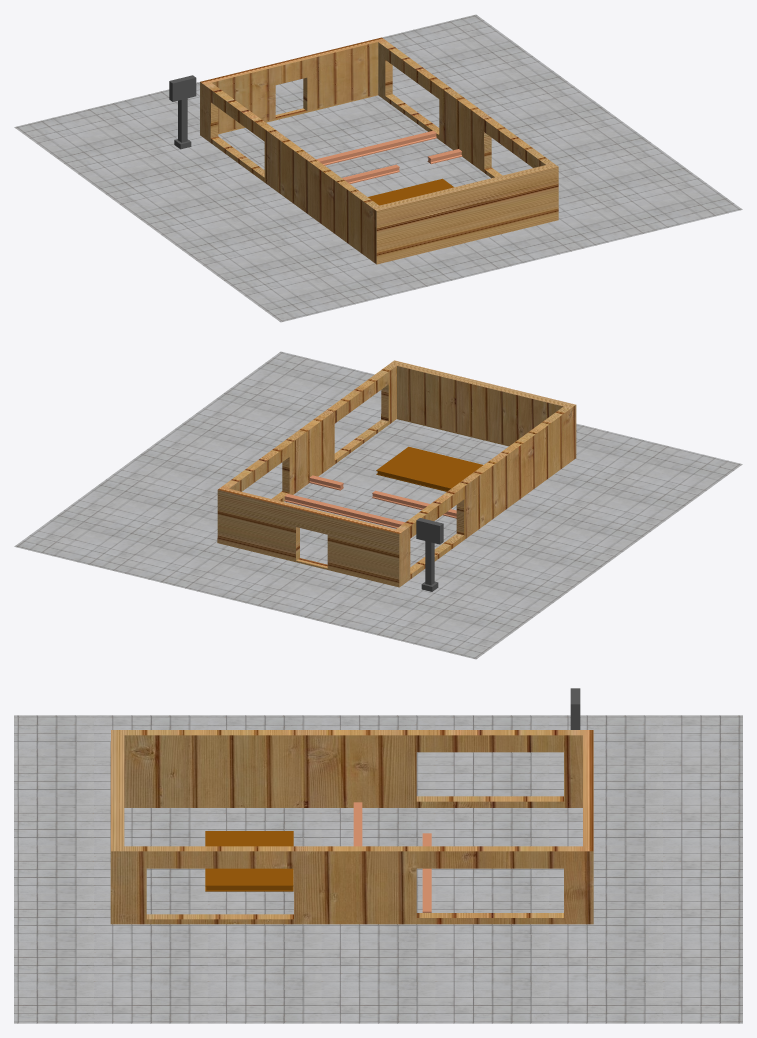
Rendered from Map.fbx.
3 views of the same model, one above another, from view 1: azimuth 30°, elevation 25°; view 2: azimuth 150°, elevation 25°; view 3: azimuth 270°, elevation 25° (orthographic). The views are drawn at different scales.
Visible parts, largest first — view 1: Floor, Walls, Cube, Divider.003, Assembly; view 2: Floor, Walls, Assembly, Cube, Divider.003, Divider.002; view 3: Floor, Walls, Assembly, Divider.003.
Boxes of the visible parts, left/top/right/bottom form: Floor: left=14, top=14, right=742, bottom=322; Walls: left=200, top=37, right=558, bottom=264; Cube: left=169, top=75, right=196, bottom=149; Divider.003: left=316, top=130, right=436, bottom=165; Assembly: left=368, top=178, right=453, bottom=205; Floor: left=14, top=351, right=742, bottom=659; Walls: left=217, top=360, right=576, bottom=587; Assembly: left=376, top=446, right=482, bottom=491; Cube: left=416, top=518, right=443, bottom=591; Divider.003: left=284, top=494, right=404, bottom=528; Divider.002: left=372, top=490, right=456, bottom=518; Floor: left=14, top=715, right=742, bottom=1023; Walls: left=110, top=730, right=593, bottom=924; Assembly: left=205, top=831, right=293, bottom=891; Divider.003: left=422, top=833, right=431, bottom=912.
Size of the model in its own units: 8600 by 1182 by 8600.
7 materials, 2 textured.
